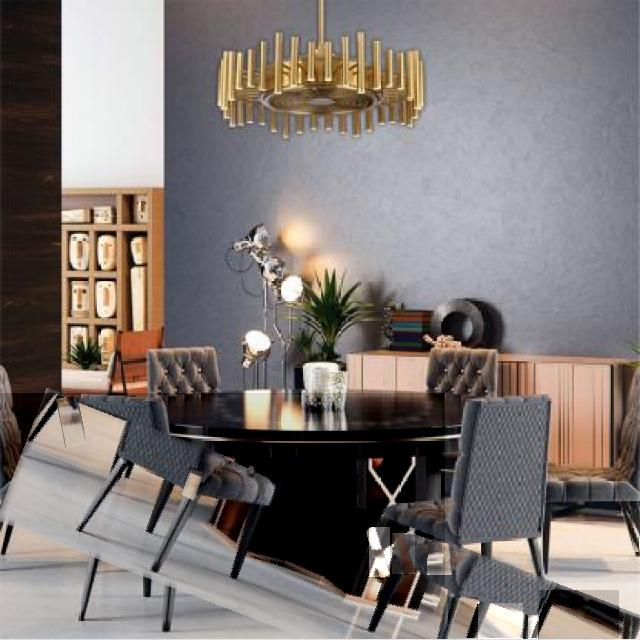floor: (0, 393, 445, 640), (540, 591, 619, 639), (477, 603, 523, 639), (57, 397, 87, 448), (449, 597, 478, 639), (369, 527, 390, 577), (393, 534, 415, 574), (427, 541, 452, 575), (181, 468, 203, 500), (626, 511, 640, 542), (529, 616, 538, 639)
